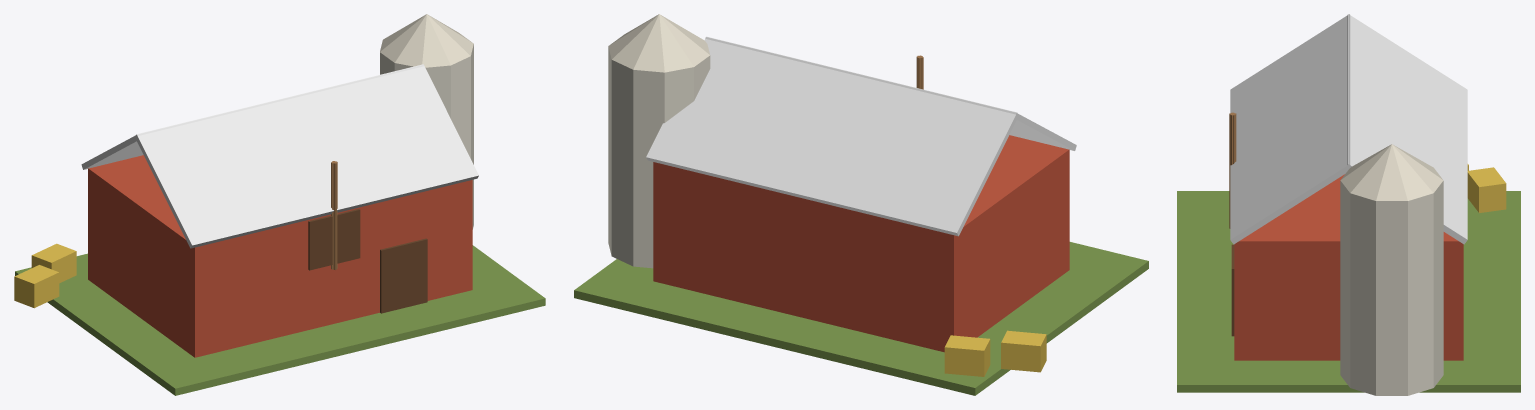
The model's file is building.farm-barn.glb.
3 renders of one model, left to right at view 1: azimuth 30°, elevation 25°; view 2: azimuth 150°, elevation 25°; view 3: azimuth 270°, elevation 25°, orthographic. The views are drawn at different scales.
Visible parts, largest first — view 1: building.farm-barn; view 2: building.farm-barn; view 3: building.farm-barn.
Boxes of the visible parts, x1=… form: building.farm-barn: x1=14, y1=14, x2=545, y2=395; building.farm-barn: x1=574, y1=14, x2=1148, y2=395; building.farm-barn: x1=1177, y1=14, x2=1520, y2=395.
Bounding box in the file's own units: 18.23 × 9.2 × 12.
